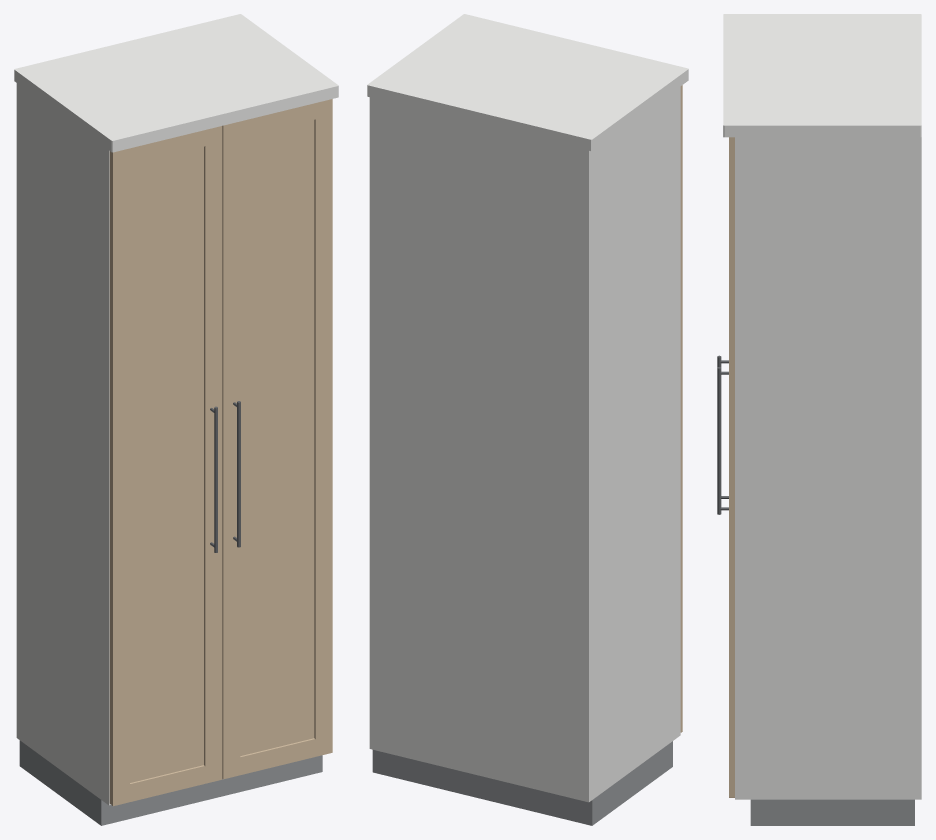
The picture shows the model from 3 angles, left to right: view 1: azimuth 30°, elevation 25°; view 2: azimuth 150°, elevation 25°; view 3: azimuth 270°, elevation 25°; orthographic projection.
Visible parts, largest first — view 1: Tủ áo cánh mở Chiều rộng=800; Chiều sâu=600; view 2: Tủ áo cánh mở Chiều rộng=800; Chiều sâu=600; view 3: Tủ áo cánh mở Chiều rộng=800; Chiều sâu=600.
Boxes of the visible parts, x1,y1,x2,y2 form: Tủ áo cánh mở Chiều rộng=800; Chiều sâu=600: (14,14,338,825); Tủ áo cánh mở Chiều rộng=800; Chiều sâu=600: (367,14,688,825); Tủ áo cánh mở Chiều rộng=800; Chiều sâu=600: (717,14,921,825).
Bounding box in the file's own units: 0.82 × 2.4 × 0.633.
